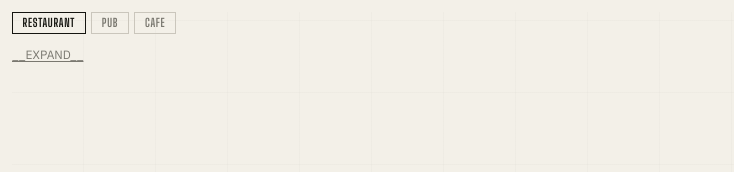
Test: VenueTypeFilter › i18n › uses i18n for the show fewer button label
Click the button "__EXPAND__": coordinates (48, 55) [12,47,84,62]
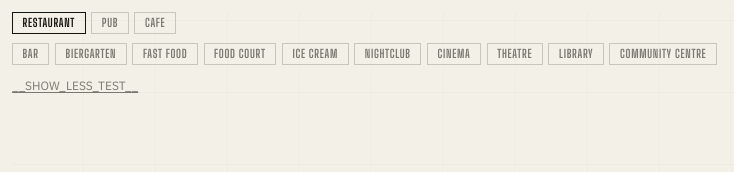
Check: the button "__SHOW_LESS_TEST__" is shown, box [12,78,138,93]
